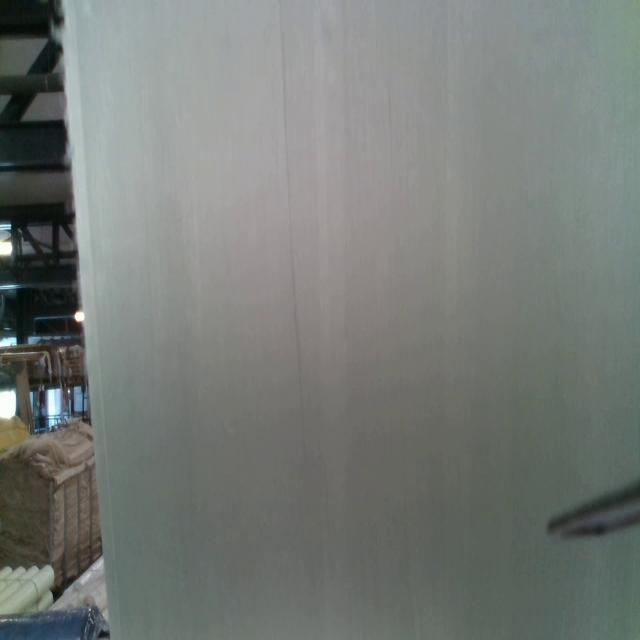crease: (279, 9, 308, 472)
